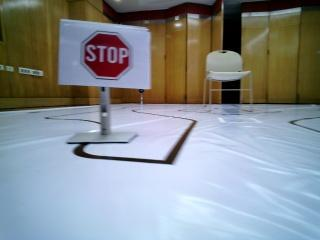stop: (62, 31, 152, 84)
